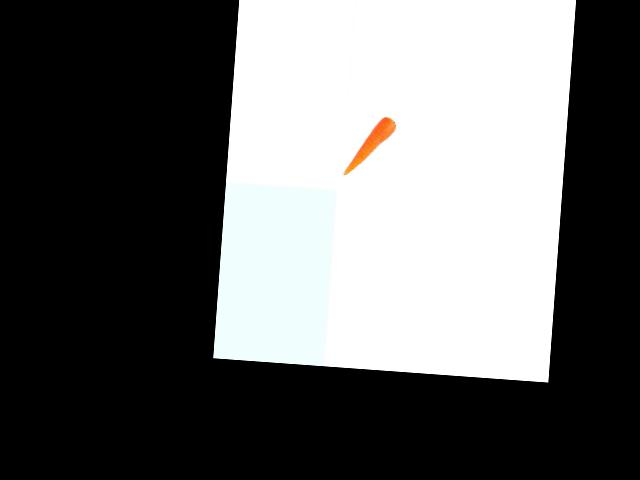carrot: (339, 113, 397, 182)
